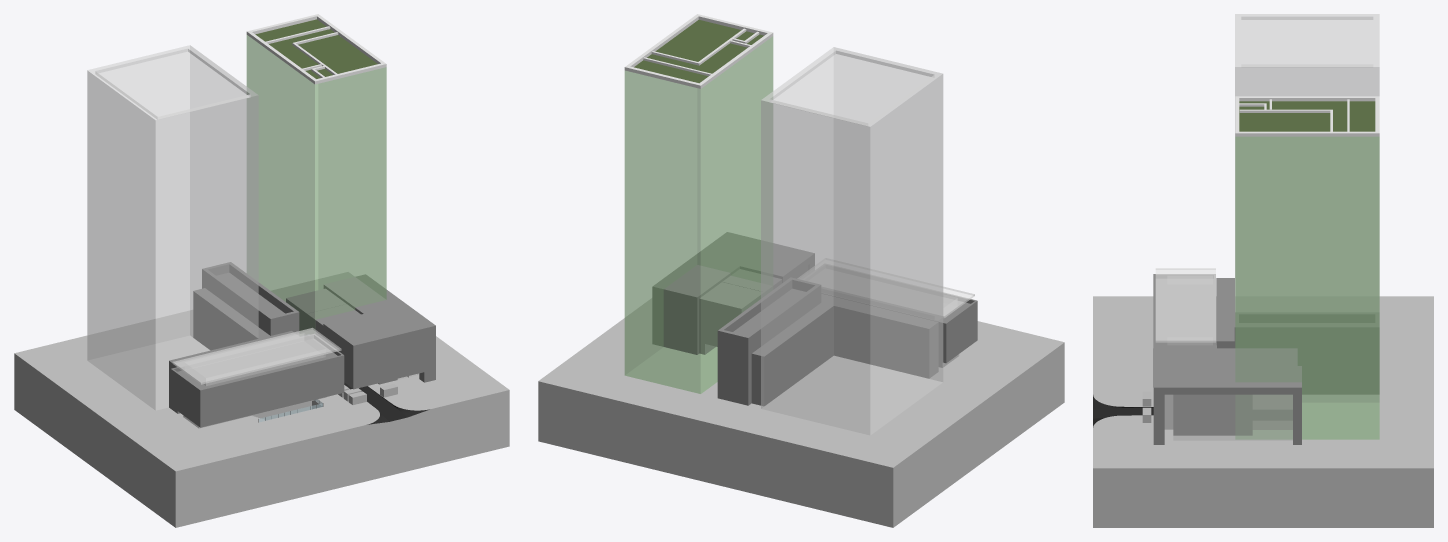
The model's file is NaverLabs1784_001.glb.
The picture shows the model from 3 angles, left to right: view 1: azimuth 30°, elevation 25°; view 2: azimuth 150°, elevation 25°; view 3: azimuth 270°, elevation 25°; orthographic projection. The views are drawn at different scales.
Parts seen in each view (by area): view 1: Base, 1784Main, GreenFacMain, 1784MainGate, GreenFacBase, 1784CafeRoof, 1784Base, 1784Base2, 1784Cafe; view 2: 1784Main, Base, GreenFacMain, 1784Base, GreenFacBase, 1784Base2, 1784MainGate, 1784CafeRoof; view 3: Base, GreenFacMain, 1784Main, GreenFacBase, 1784Base2, 1784MainGate, 1784CafeRoof, 1784Cafe, 1784Base, Cube.007.
Boxes of the visible parts, box(x1,y1,x2,y2) form: Base: box(14, 272, 509, 527); 1784Main: box(87, 45, 258, 410); GreenFacMain: box(246, 14, 386, 330); 1784MainGate: box(170, 334, 344, 428); GreenFacBase: box(286, 274, 435, 389); 1784CafeRoof: box(172, 328, 341, 384); 1784Base: box(169, 288, 298, 413); 1784Base2: box(202, 262, 299, 335); 1784Cafe: box(185, 333, 325, 385); 1784Main: box(761, 47, 943, 435); Base: box(538, 298, 1064, 527); GreenFacMain: box(624, 14, 773, 393); 1784Base: box(751, 294, 938, 405); GreenFacBase: box(652, 232, 814, 354); 1784Base2: box(717, 277, 820, 405); 1784MainGate: box(821, 288, 977, 367); 1784CafeRoof: box(798, 258, 974, 317); Base: box(1093, 296, 1433, 527); GreenFacMain: box(1235, 96, 1379, 439); 1784Main: box(1235, 14, 1379, 311); GreenFacBase: box(1153, 345, 1301, 444); 1784Base2: box(1234, 312, 1379, 394); 1784MainGate: box(1153, 274, 1215, 387); 1784CafeRoof: box(1155, 268, 1215, 342); 1784Cafe: box(1167, 276, 1212, 344); 1784Base: box(1216, 278, 1234, 348); Cube.007: box(1239, 109, 1332, 131).
Bounding box in the file's own units: 55.67 × 55.26 × 46.6.
